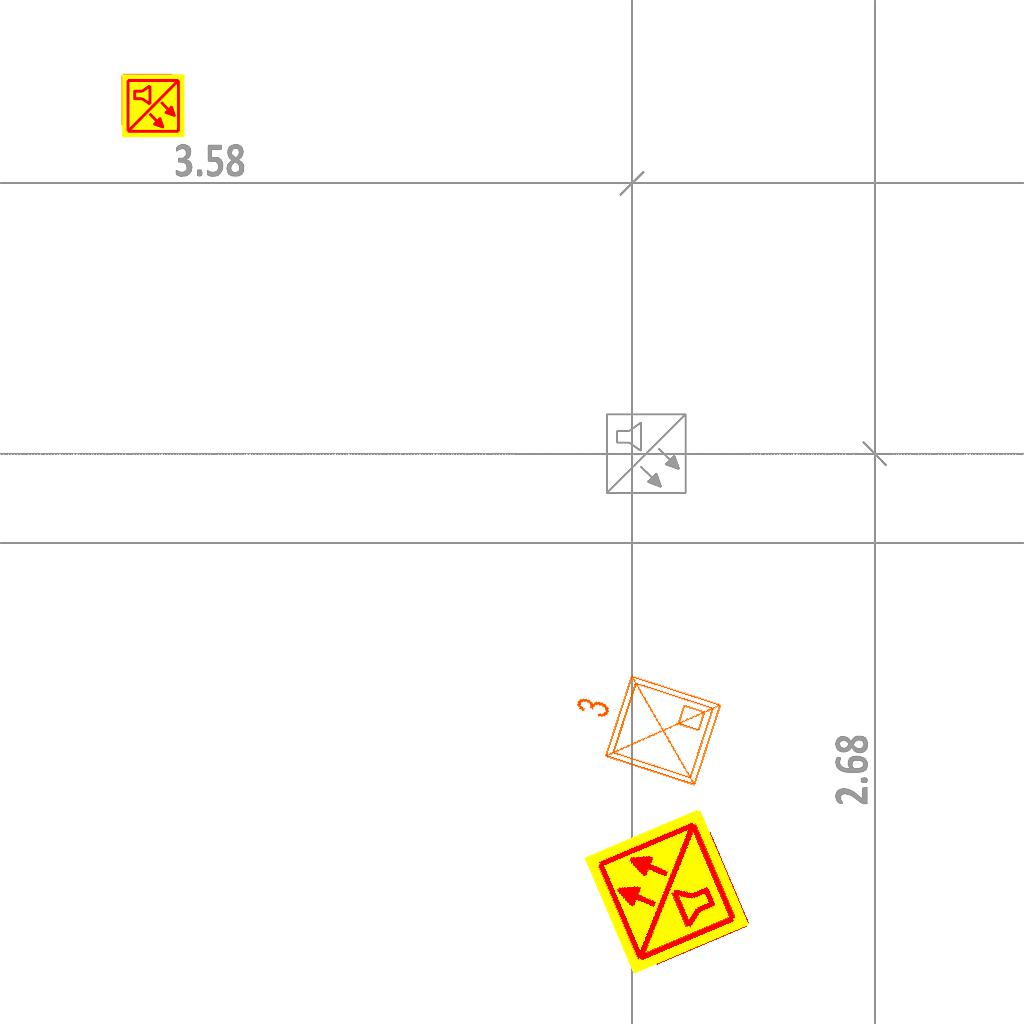Einbaudownlights_LED_Konferenzraeume: (555, 653, 731, 799)
OKW_Multisensormelder_(Kombination_optischer_Rauch-Kahlenmonoxid_Waerme-Melder): (580, 804, 754, 978), (120, 73, 186, 139)
